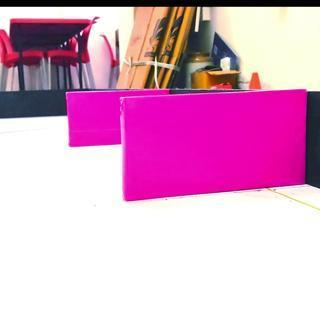xparking: (124, 98, 305, 196), (68, 90, 120, 147), (65, 90, 118, 144)
